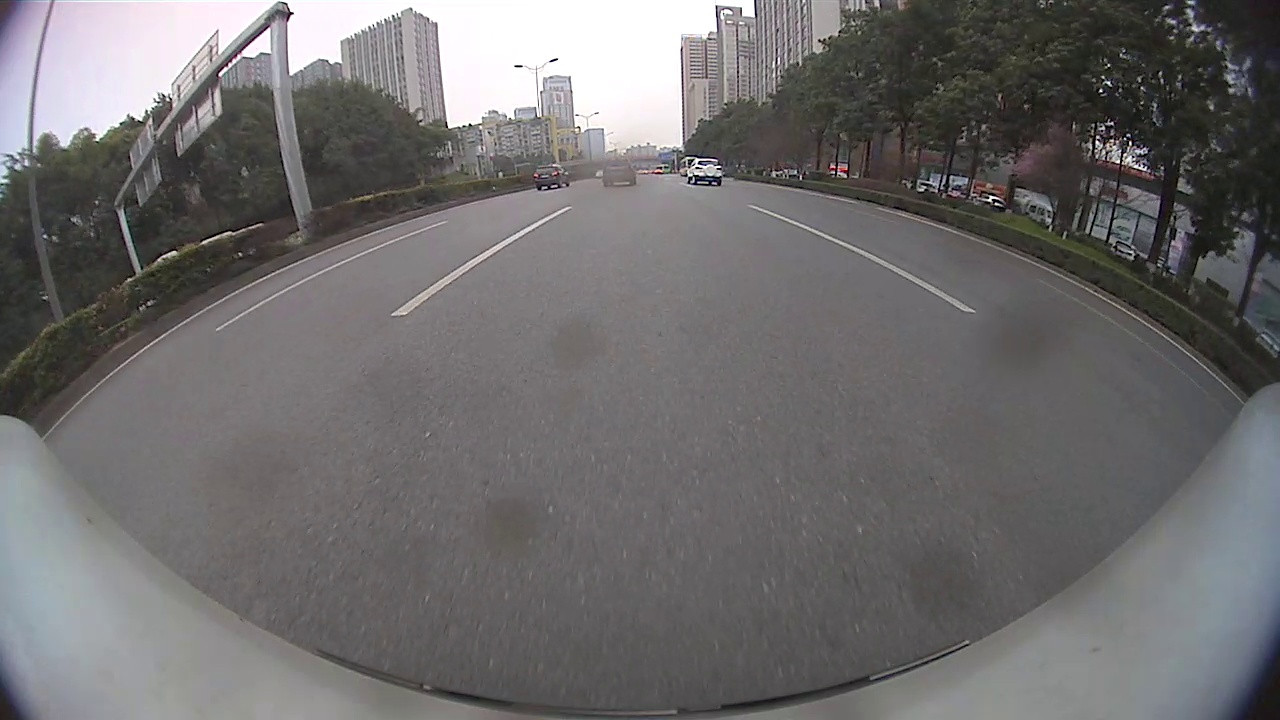bus: (679, 156, 698, 176)
car: (532, 164, 571, 191), (685, 158, 724, 185), (603, 163, 636, 187)
